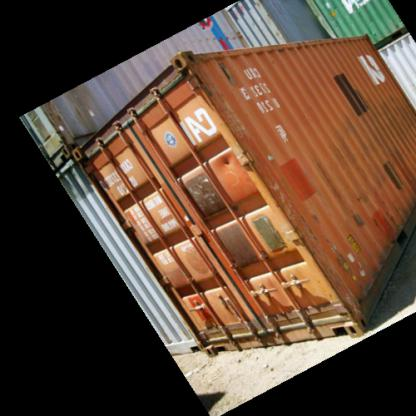Damage: (188, 61, 290, 199), (284, 193, 358, 317), (340, 181, 380, 229)
